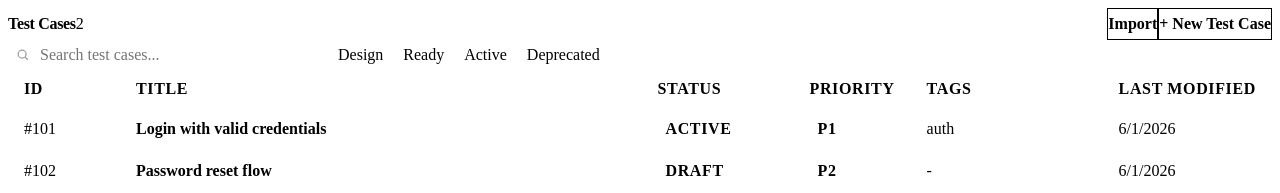
Scenario: TestCasesListView (Sprint 2.19) › filters test cases by search query
Check: the text "Login with valid credentials" is shown, box [136, 120, 326, 137]
Type "password" into the search field with placeholder "Search test cases..." at (168, 55), box [8, 40, 328, 70]
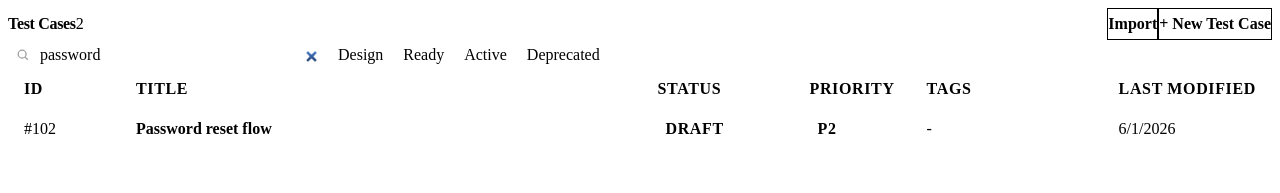
Check: the text "Password reset flow" is shown, box [136, 120, 272, 137]
Check: the text "Login with valid credentials" is gone
